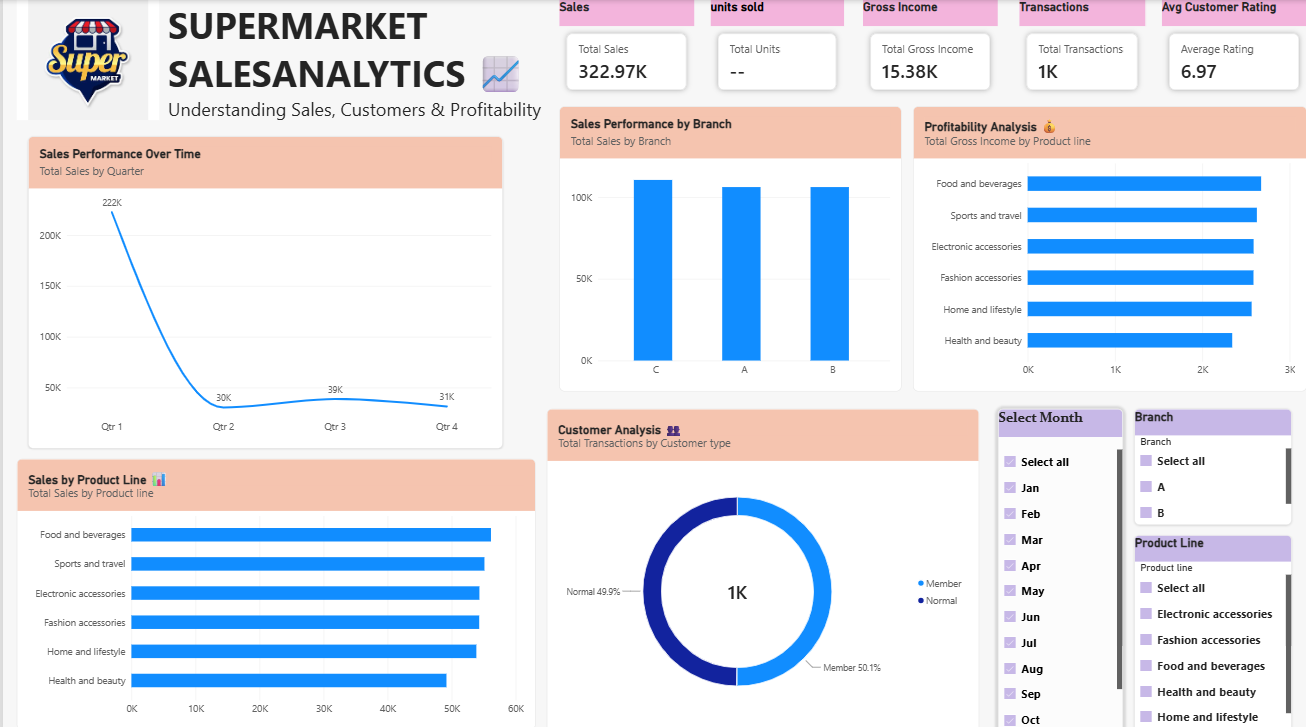

Layout of this report page (visuals, bound fields, positions):
{"tool":"powerbi","page":{"name":"Page 1","canvas":[1920,1080],"ordinal":0},"visuals":[{"type":"cardVisual","title":"Sales","fields":{"Data":["supermarket_sales.Total Sales"]},"box":[819,0,198.8,143.6],"z":0},{"type":"cardVisual","title":"units sold","fields":{"Data":["supermarket_sales.Total Units"]},"box":[1041.7,0,196.9,143.6],"z":1000},{"type":"cardVisual","title":"Transactions","fields":{"Data":["supermarket_sales.Total Transactions"]},"box":[1496.3,0,185.9,143.6],"z":2000},{"type":"cardVisual","title":"Gross Income","fields":{"Data":["supermarket_sales.Total Gross Income"]},"box":[1266.3,0,198.8,143.6],"z":3000},{"type":"cardVisual","title":"Avg Customer Rating","fields":{"Data":["supermarket_sales.Average Rating"]},"box":[1706.1,0,213.5,143.6],"z":4000},{"type":"textbox","box":[242.9,0,717.8,200.6],"z":5000},{"type":"lineChart","title":"Sales Performance Over Time","fields":{"Category":["supermarket_sales.Date.Variation.Date Hierarchy.Year","supermarket_sales.Date.Variation.Date Hierarchy.Quarter","supermarket_sales.Date.Variation.Date Hierarchy.Month","supermarket_sales.Date.Variation.Date Hierarchy.Day"],"Y":["supermarket_sales.Total Sales"]},"box":[36.8,200.6,699.4,460.1],"z":6000},{"type":"clusteredBarChart","title":"Sales by Product Line 📊","fields":{"Category":["supermarket_sales.Product line"],"Y":["supermarket_sales.Total Sales"]},"box":[20.2,675.5,763.8,399.4],"z":7000},{"type":"clusteredColumnChart","title":"Sales Performance by Branch","fields":{"Category":["supermarket_sales.Branch"],"Y":["supermarket_sales.Total Sales"]},"box":[819,156.4,504.3,419.6],"z":8000},{"type":"clusteredBarChart","title":"Profitability Analysis 💰","fields":{"Category":["supermarket_sales.Product line"],"Y":["supermarket_sales.Total Gross Income"]},"box":[1339.9,156.4,579.8,419.6],"z":9000},{"type":"donutChart","title":"Customer Analysis 👥","fields":{"Category":["supermarket_sales.Customer type"],"Y":["supermarket_sales.Total Transactions"]},"box":[800.6,601.8,636.8,478.5],"z":10000},{"type":"slicer","title":"Select Month","fields":{"Values":["supermarket_sales.Month Name"]},"box":[1465,601.8,184.1,478.5],"z":11000},{"type":"slicer","title":"Branch","fields":{"Values":["supermarket_sales.Branch"]},"box":[1665.7,601.8,231.9,171.2],"z":12000},{"type":"slicer","title":"Product Line ","fields":{"Values":["supermarket_sales.Product line"]},"box":[1665.7,787.7,231.9,292.6],"z":13000},{"type":"image","box":[20.2,0,209.8,176.7],"z":14000}]}

Visuals, with their boxes in screenshot pixels (x1, y1, x2, y2), scaled from the page's 1920x1080 canvas onto the 1306x727 screenshot:
"Sales" cardVisual: 557 0 692 97
"units sold" cardVisual: 709 0 843 97
"Transactions" cardVisual: 1018 0 1144 97
"Gross Income" cardVisual: 861 0 997 97
"Avg Customer Rating" cardVisual: 1161 0 1305 97
textbox: 165 0 653 135
"Sales Performance Over Time" lineChart: 25 135 501 445
"Sales by Product Line 📊" clusteredBarChart: 14 455 533 724
"Sales Performance by Branch" clusteredColumnChart: 557 105 900 388
"Profitability Analysis 💰" clusteredBarChart: 911 105 1305 388
"Customer Analysis 👥" donutChart: 545 405 978 726
"Select Month" slicer: 997 405 1122 726
"Branch" slicer: 1133 405 1291 520
"Product Line " slicer: 1133 530 1291 726
image: 14 0 156 119
